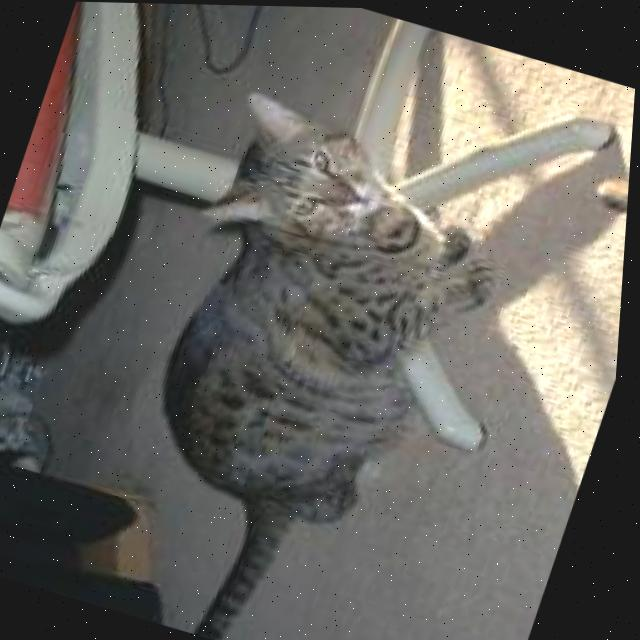Bengal: (53, 78, 560, 640)
